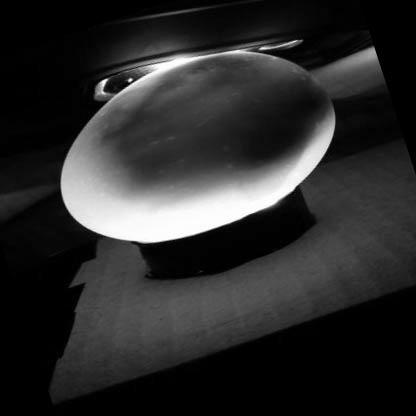telur: (51, 47, 339, 247)
